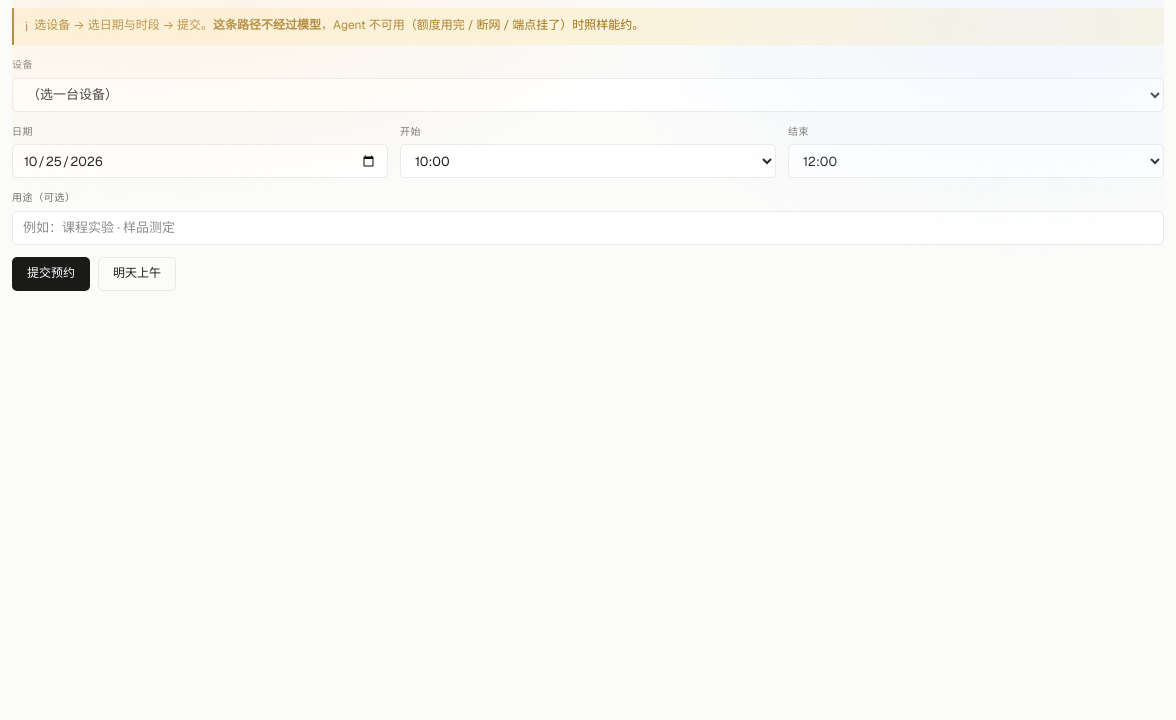
Scenario: BookPane › 需要审批时说的是等待审批，不是预约成功
Select "荧光光谱仪 · SPEC-F7000" in the dropdown labelled "设备" at (588, 95), box [12,78,1164,112]
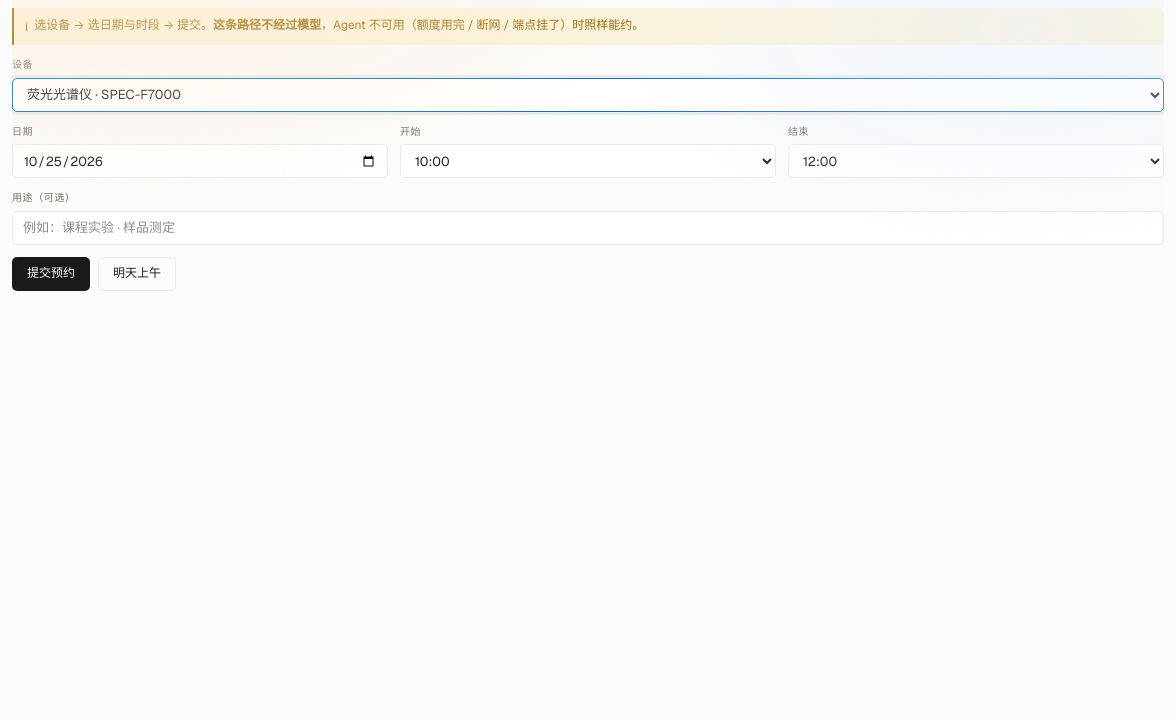
Click the button "提交预约" at (51, 274), box [12,257,90,291]
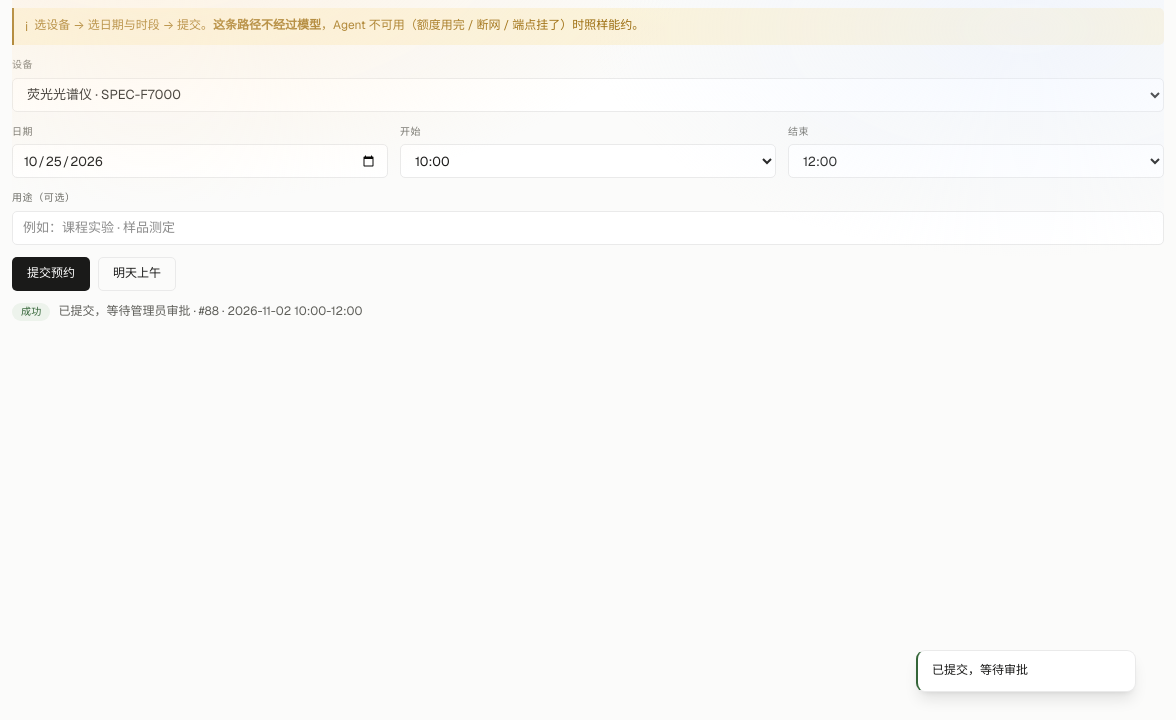
Expected: the text "已提交，等待管理员审批 · #88 · 2026-11-02 10:00-12:00" is shown, [58,303,363,320]
